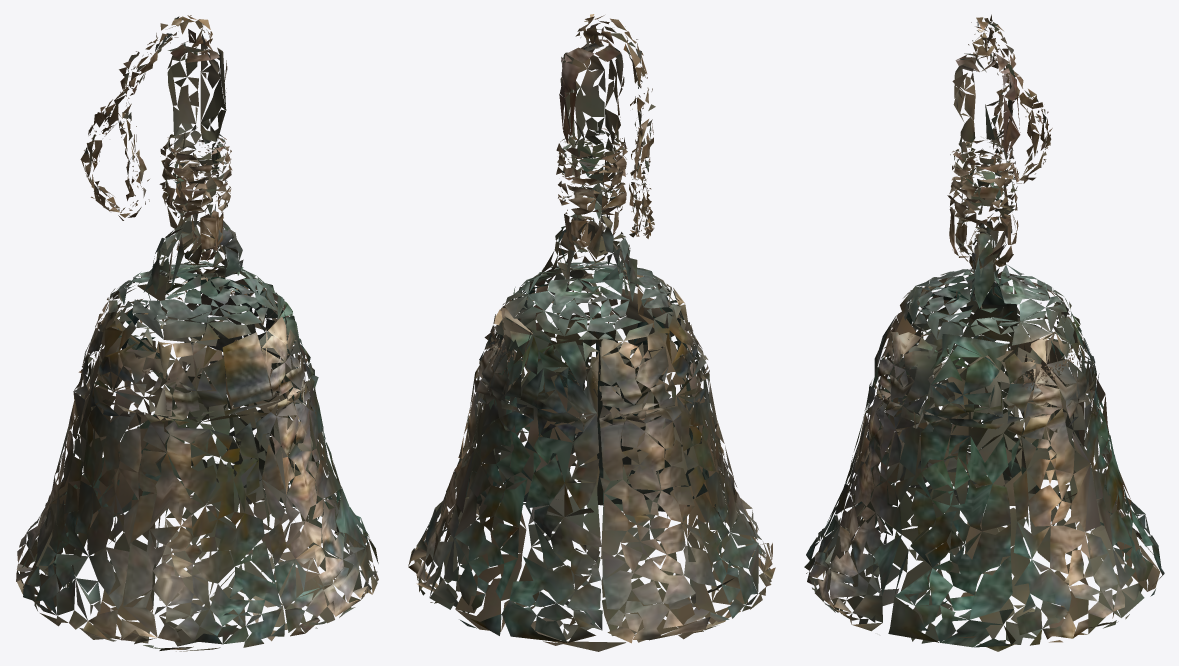
The model's file is bell.glb.
3 renders of one model, left to right at view 1: azimuth 30°, elevation 25°; view 2: azimuth 150°, elevation 25°; view 3: azimuth 270°, elevation 25°, orthographic.
Parts seen in each view (by area): view 1: geometry_0; view 2: geometry_0; view 3: geometry_0.
Part boxes in pixels (x1=…): geometry_0: x1=16, y1=15, x2=378, y2=651; geometry_0: x1=408, y1=14, x2=775, y2=651; geometry_0: x1=804, y1=14, x2=1164, y2=651.
Size of the model in its own units: 0.1472 by 0.252 by 0.1472.
Materials: 1 (1 with a texture image).
